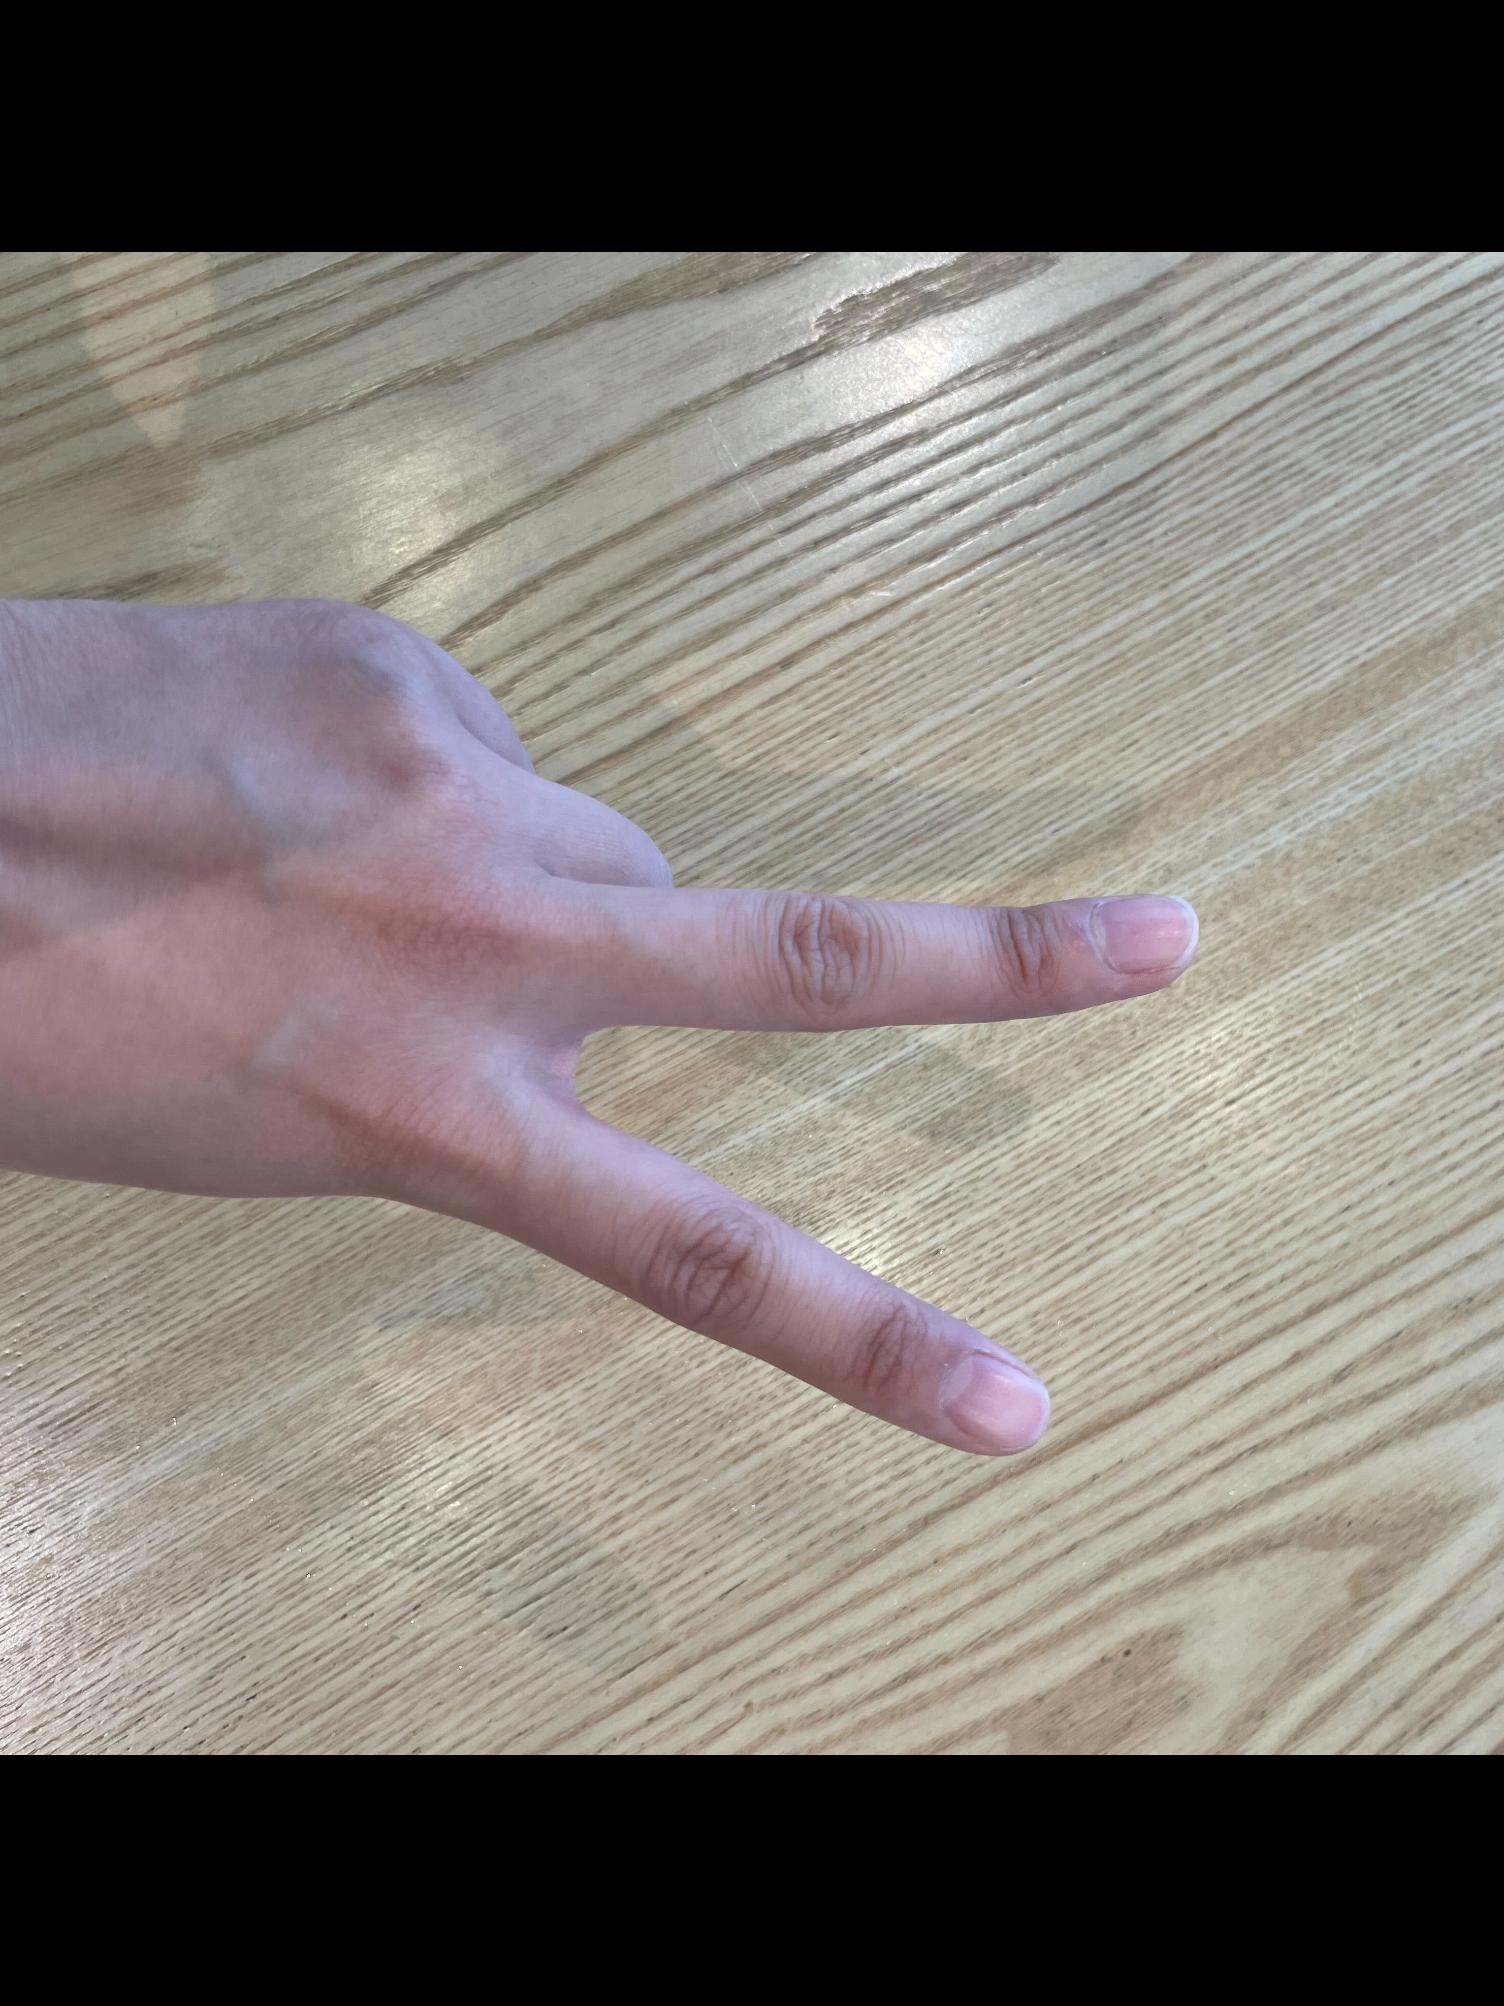v: (0, 562, 1218, 1461)
